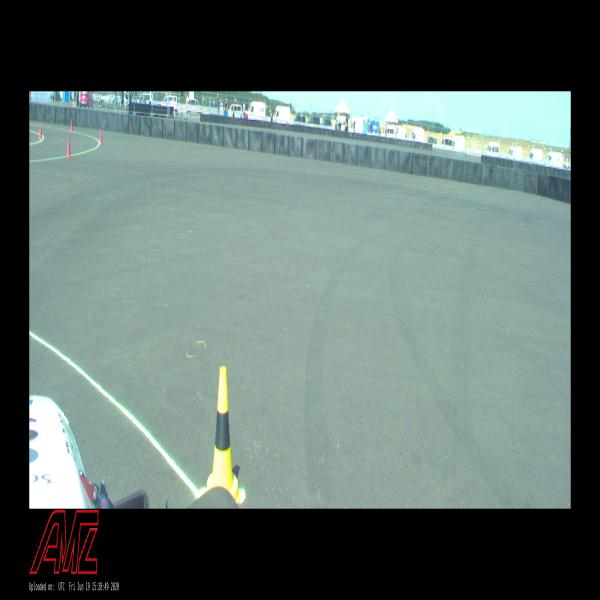yellow_cone: (202, 367, 242, 504)
